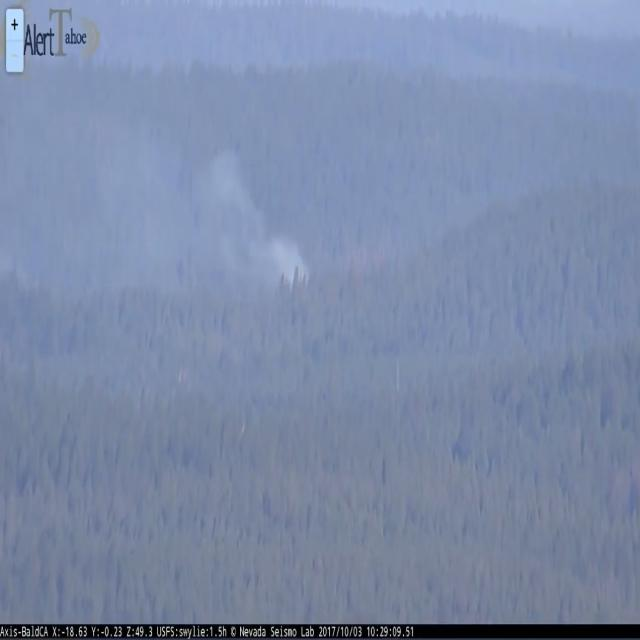smoke: (211, 151, 313, 285)
